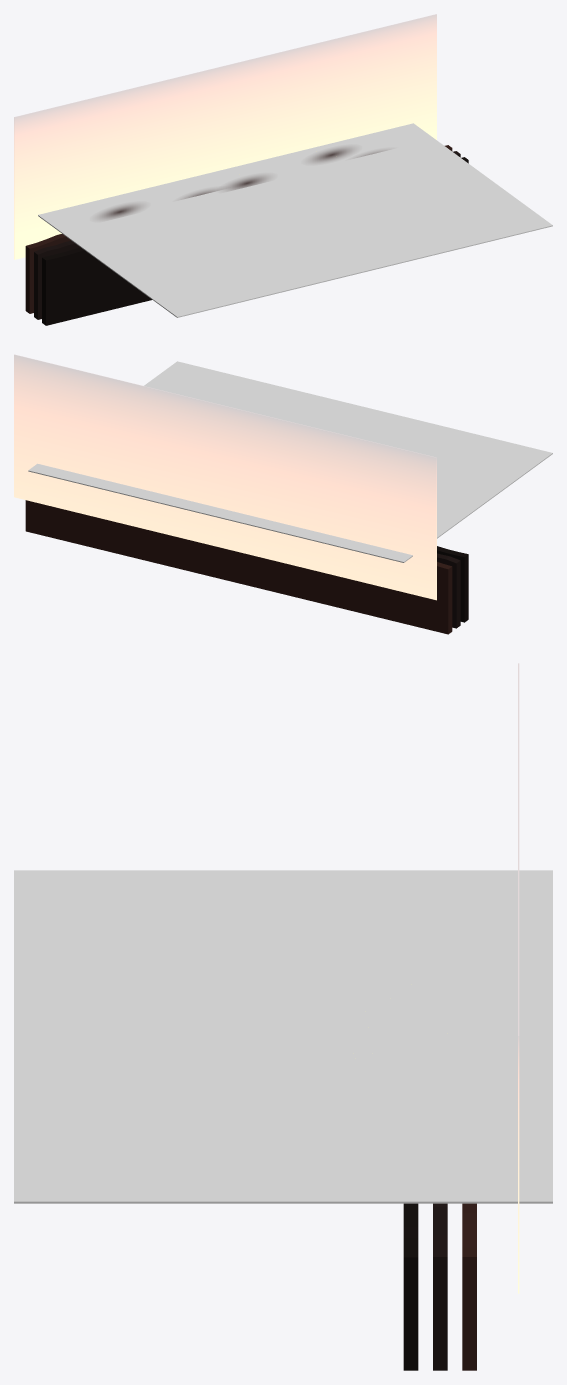
The model's file is scorched.glb.
3 renders of one model, top to bottom at view 1: azimuth 30°, elevation 25°; view 2: azimuth 150°, elevation 25°; view 3: azimuth 270°, elevation 25°, orthographic. The views are drawn at different scales.
Parts seen in each view (by area): view 1: Ground contact / transparent shadow receiver.026, Sky gradient / editable material.026, World / terrain and architecture.021, Motion / cloud 5.005, Motion / cloud 0.005; view 2: Sky gradient / editable material.026, Ground contact / transparent shadow receiver.026, World / terrain and architecture.021; view 3: Ground contact / transparent shadow receiver.026, World / terrain and architecture.021, Sky gradient / editable material.026.
Boxes of the visible parts, <box> form: Ground contact / transparent shadow receiver.026: <box>38,123,552,317</box>; Sky gradient / editable material.026: <box>14,14,436,259</box>; World / terrain and architecture.021: <box>25,145,468,325</box>; Motion / cloud 5.005: <box>309,147,354,162</box>; Motion / cloud 0.005: <box>97,204,142,219</box>; Sky gradient / editable material.026: <box>14,354,436,600</box>; Ground contact / transparent shadow receiver.026: <box>28,361,552,562</box>; World / terrain and architecture.021: <box>25,500,468,634</box>; Ground contact / transparent shadow receiver.026: <box>14,870,552,1203</box>; World / terrain and architecture.021: <box>403,1203,476,1370</box>; Sky gradient / editable material.026: <box>518,663,519,1293</box>.
Bounding box in the file's own units: 180 × 75.4 × 110.
Materials: 11 (1 with a texture image).
